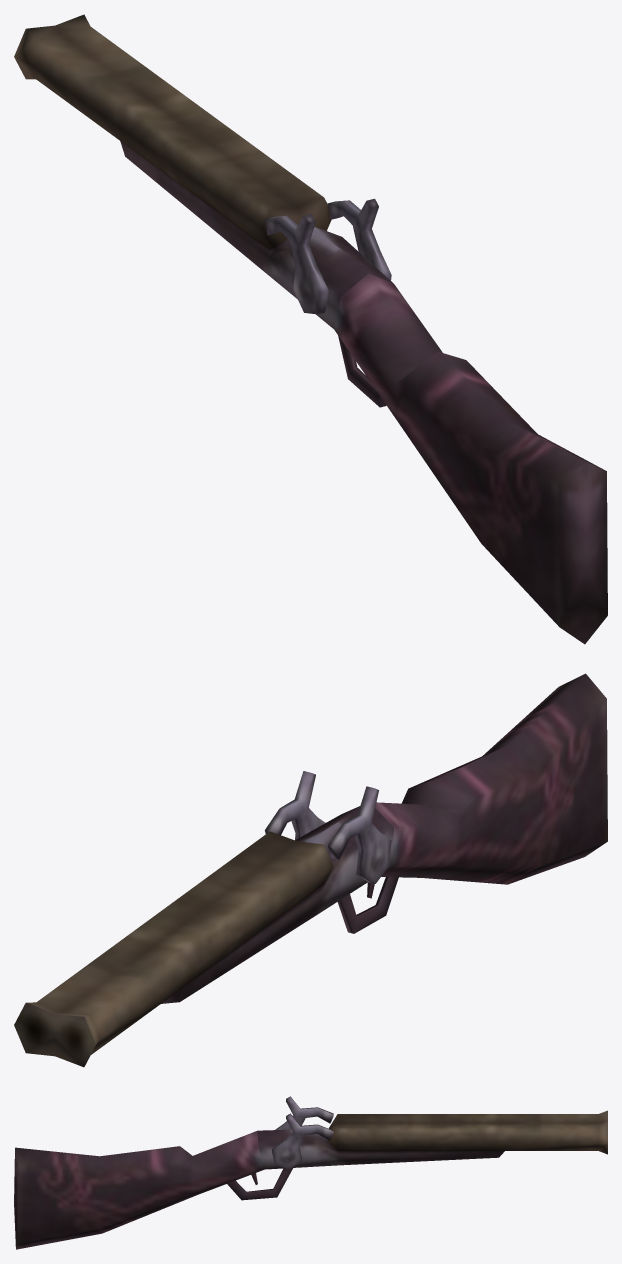
File: merchantGun.glb
3 views of the same model, one above another, from view 1: azimuth 30°, elevation 25°; view 2: azimuth 150°, elevation 25°; view 3: azimuth 270°, elevation 25° (orthographic). The views are drawn at different scales.
Visible parts, largest first — view 1: merchantGun; view 2: merchantGun; view 3: merchantGun.
Boxes of the visible parts, box(x1,y1,x2,y2) form: merchantGun: box(14, 14, 607, 644); merchantGun: box(14, 673, 607, 1067); merchantGun: box(14, 1096, 607, 1249).
Size of the model in its own units: 0.0658 by 0.1973 by 0.7389.
1 material, 1 textured.
